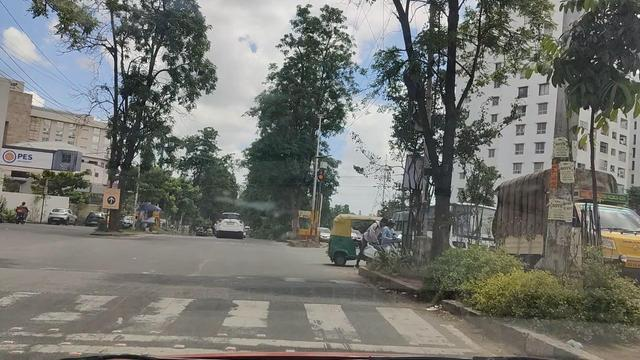SpeedBump: (0, 278, 427, 331)
